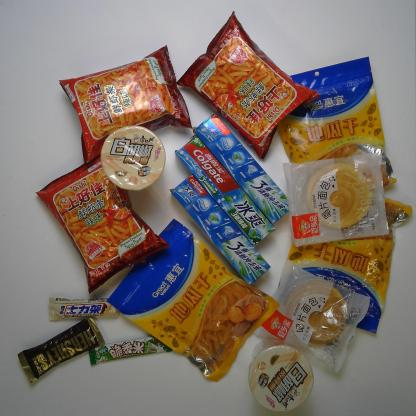Chocolate: (16, 315, 106, 384), (87, 330, 176, 368), (46, 295, 118, 322)
Dessert: (254, 260, 371, 373), (283, 153, 390, 247)
Dried Fruit: (102, 217, 280, 383), (273, 178, 412, 338), (266, 56, 400, 206)
Instant Noodles: (248, 343, 315, 413), (100, 126, 165, 190)
Personal Hygiene: (168, 174, 271, 286), (175, 134, 275, 249), (192, 112, 291, 222)
Puffed Food: (174, 9, 319, 160), (37, 151, 169, 296), (57, 46, 192, 166)
